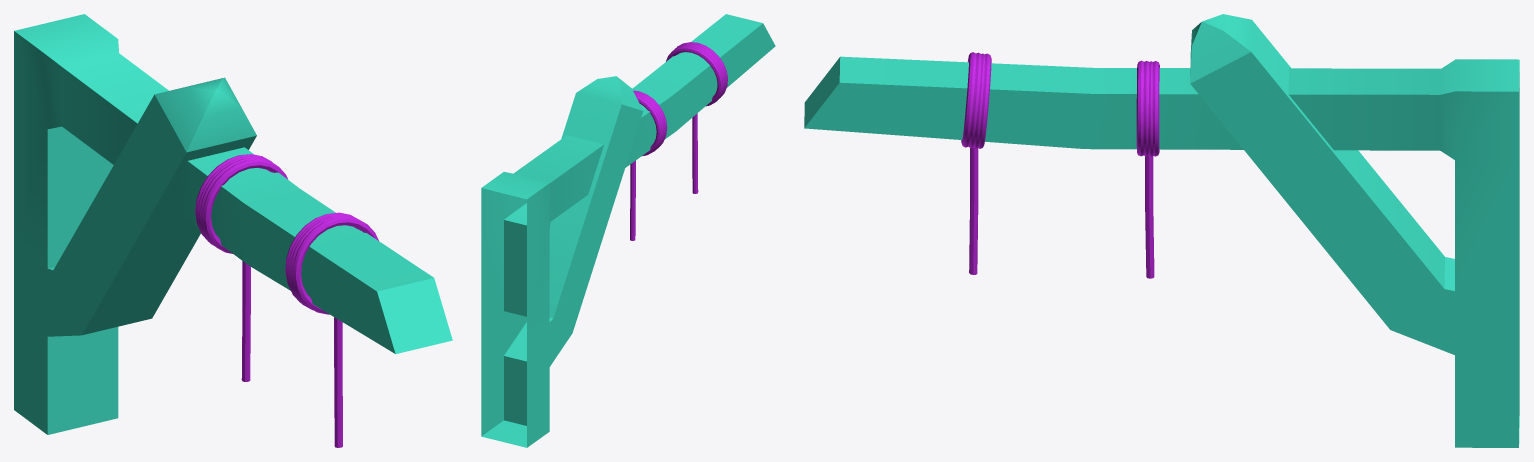
File: Madera Cratel.fbx
The picture shows the model from 3 angles, left to right: view 1: azimuth 30°, elevation 25°; view 2: azimuth 150°, elevation 25°; view 3: azimuth 270°, elevation 25°; orthographic projection. The views are drawn at different scales.
Parts seen in each view (by area): view 1: Torus022; view 2: Torus022; view 3: Torus022.
Boxes of the visible parts, box(x1,y1,x2,y2) form: Torus022: box(14, 14, 452, 447); Torus022: box(481, 14, 775, 447); Torus022: box(804, 14, 1519, 447).
Bounding box in the file's own units: 24.21 × 112 × 177.
